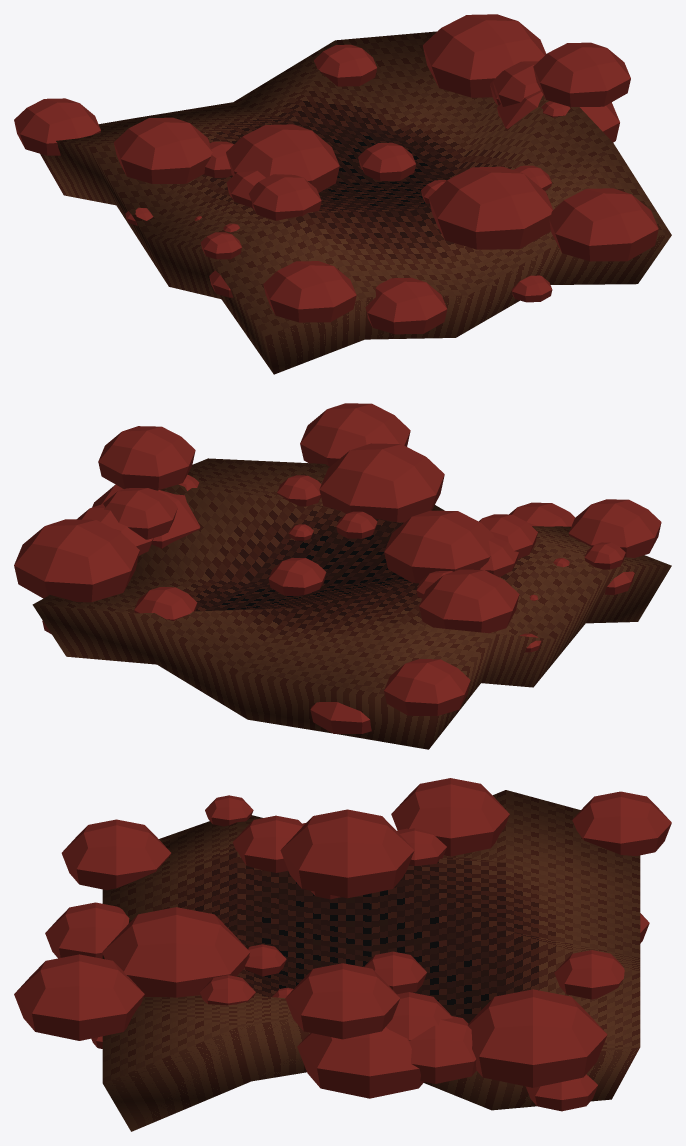
File: SoilUntilled3.fbx
3 renders of one model, top to bottom at view 1: azimuth 30°, elevation 25°; view 2: azimuth 150°, elevation 25°; view 3: azimuth 270°, elevation 25°, orthographic. The views are drawn at different scales.
Parts seen in each view (by area): view 1: Plane.002, Plane.002|Cube.006|Dupli|6, Plane.002|Cube.006|Dupli|, Plane.002|Cube.006|Dupli|7, Plane.002|Cube.006|Dupli|16, Plane.002|Cube.006|Dupli|17, Plane.002|Cube.006|Dupli|27, Plane.002|Cube.006|Dupli|14, Plane.002|Cube.006|Dupli|25, Plane.002|Cube.006|Dupli|22, Plane.002|Cube.006|Dupli|10, Plane.002|Cube.006|Dupli|18 (+7 smaller); view 2: Plane.002, Plane.002|Cube.006|Dupli|, Plane.002|Cube.006|Dupli|6, Plane.002|Cube.006|Dupli|17, Plane.002|Cube.006|Dupli|16, Plane.002|Cube.006|Dupli|27, Plane.002|Cube.006|Dupli|7, Plane.002|Cube.006|Dupli|22, Plane.002|Cube.006|Dupli|14, Plane.002|Cube.006|Dupli|20, Plane.002|Cube.006|Dupli|19, Plane.002|Cube.006|Dupli|23 (+9 smaller); view 3: Plane.002, Plane.002|Cube.006|Dupli|, Plane.002|Cube.006|Dupli|6, Plane.002|Cube.006|Dupli|17, Plane.002|Cube.006|Dupli|7, Plane.002|Cube.006|Dupli|27, Plane.002|Cube.006|Dupli|28, Plane.002|Cube.006|Dupli|16, Plane.002|Cube.006|Dupli|14, Plane.002|Cube.006|Dupli|22, Plane.002|Cube.006|Dupli|29, Plane.002|Cube.006|Dupli|25 (+9 smaller).
Boxes of the visible parts, <box> form: Plane.002: <box>40,31,671,374</box>; Plane.002|Cube.006|Dupli|6: <box>428,166,553,249</box>; Plane.002|Cube.006|Dupli|: <box>423,14,546,97</box>; Plane.002|Cube.006|Dupli|7: <box>549,188,658,261</box>; Plane.002|Cube.006|Dupli|16: <box>114,117,212,183</box>; Plane.002|Cube.006|Dupli|17: <box>226,124,339,192</box>; Plane.002|Cube.006|Dupli|27: <box>533,42,630,106</box>; Plane.002|Cube.006|Dupli|14: <box>263,261,356,322</box>; Plane.002|Cube.006|Dupli|25: <box>365,277,447,334</box>; Plane.002|Cube.006|Dupli|22: <box>14,98,100,155</box>; Plane.002|Cube.006|Dupli|10: <box>249,174,321,220</box>; Plane.002|Cube.006|Dupli|18: <box>314,44,377,86</box>; Plane.002: <box>32,458,671,749</box>; Plane.002|Cube.006|Dupli|: <box>14,519,139,602</box>; Plane.002|Cube.006|Dupli|6: <box>319,443,444,522</box>; Plane.002|Cube.006|Dupli|17: <box>384,510,493,583</box>; Plane.002|Cube.006|Dupli|16: <box>419,569,519,633</box>; Plane.002|Cube.006|Dupli|27: <box>98,426,195,490</box>; Plane.002|Cube.006|Dupli|7: <box>300,403,410,466</box>; Plane.002|Cube.006|Dupli|22: <box>384,659,470,715</box>; Plane.002|Cube.006|Dupli|14: <box>568,499,661,557</box>; Plane.002|Cube.006|Dupli|20: <box>103,488,177,539</box>; Plane.002|Cube.006|Dupli|19: <box>268,558,326,595</box>; Plane.002|Cube.006|Dupli|23: <box>310,702,371,733</box>; Plane.002: <box>102,790,640,1131</box>; Plane.002|Cube.006|Dupli|: <box>468,989,607,1087</box>; Plane.002|Cube.006|Dupli|6: <box>102,907,250,997</box>; Plane.002|Cube.006|Dupli|17: <box>280,809,414,898</box>; Plane.002|Cube.006|Dupli|7: <box>14,954,144,1040</box>; Plane.002|Cube.006|Dupli|27: <box>285,963,400,1039</box>; Plane.002|Cube.006|Dupli|28: <box>297,1027,423,1098</box>; Plane.002|Cube.006|Dupli|16: <box>391,778,509,856</box>; Plane.002|Cube.006|Dupli|14: <box>61,819,171,890</box>; Plane.002|Cube.006|Dupli|22: <box>572,791,671,855</box>; Plane.002|Cube.006|Dupli|29: <box>409,1016,476,1083</box>; Plane.002|Cube.006|Dupli|25: <box>45,902,129,958</box>.
Size of the model in its own units: 879 by 295 by 907.
